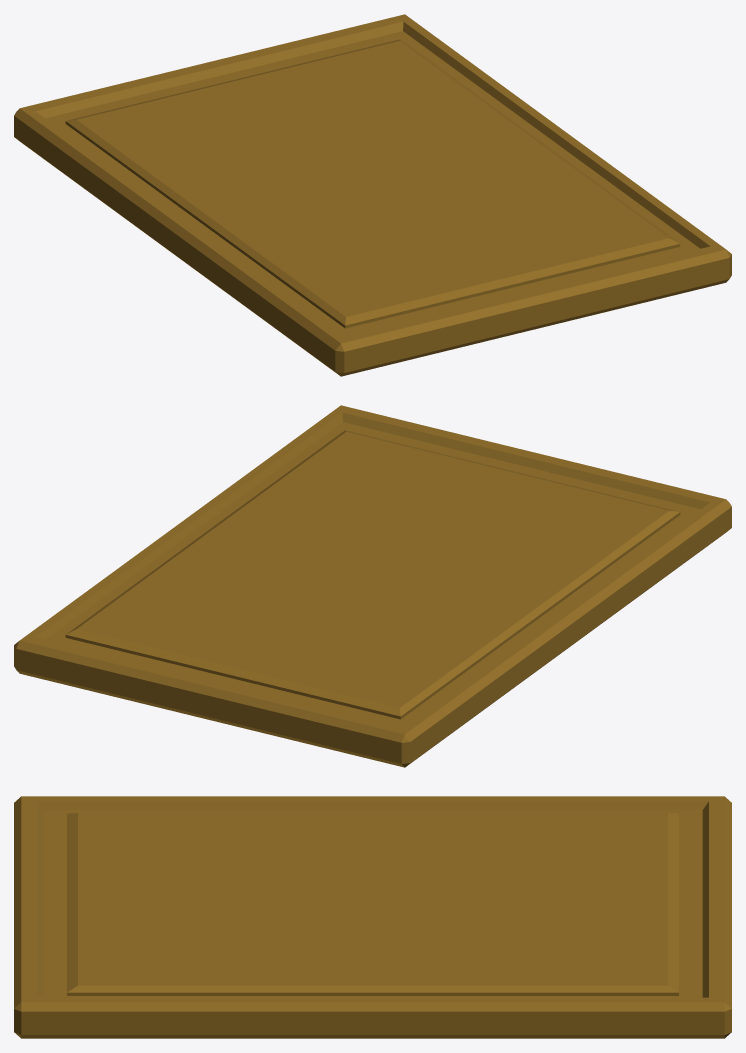
Rendered from Cuttingboard.fbx.
The picture shows the model from 3 angles, top to bottom: view 1: azimuth 30°, elevation 25°; view 2: azimuth 150°, elevation 25°; view 3: azimuth 270°, elevation 25°; orthographic projection. The views are drawn at different scales.
Parts seen in each view (by area): view 1: Cube; view 2: Cube; view 3: Cube.
Part boxes in pixels (box(x1,y1,x2,y2)): Cube: box(14, 14, 731, 376); Cube: box(14, 405, 731, 767); Cube: box(14, 796, 731, 1038).
Bounding box in the file's own units: 140 × 11.17 × 200.
